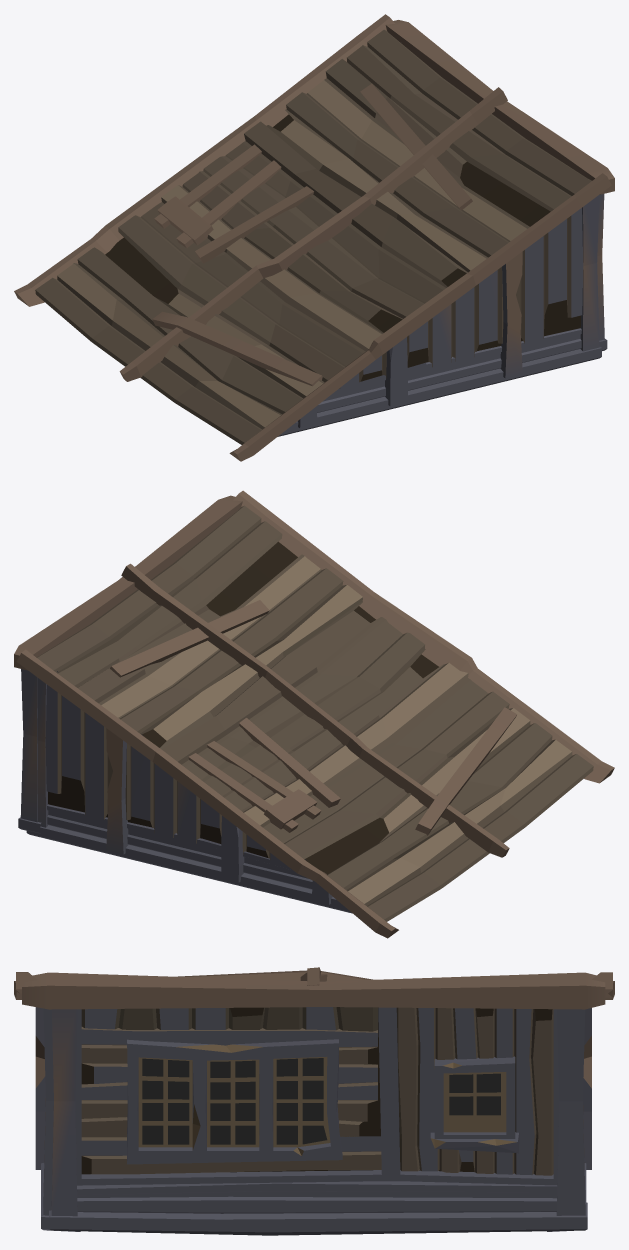
File: SM_Bld_Shanty_Roof_02.glb
3 renders of one model, top to bottom at view 1: azimuth 30°, elevation 25°; view 2: azimuth 150°, elevation 25°; view 3: azimuth 270°, elevation 25°, orthographic. The views are drawn at different scales.
Visible parts, largest first — view 1: SM_Bld_Shanty_Roof_02; view 2: SM_Bld_Shanty_Roof_02; view 3: SM_Bld_Shanty_Roof_02.
Part boxes in pixels (x1,y1,x2,y2): SM_Bld_Shanty_Roof_02: (14, 14, 614, 461); SM_Bld_Shanty_Roof_02: (14, 490, 614, 938); SM_Bld_Shanty_Roof_02: (14, 967, 614, 1235).
Bounding box in the file's own units: 0.0567 × 0.0277 × 0.0558.
